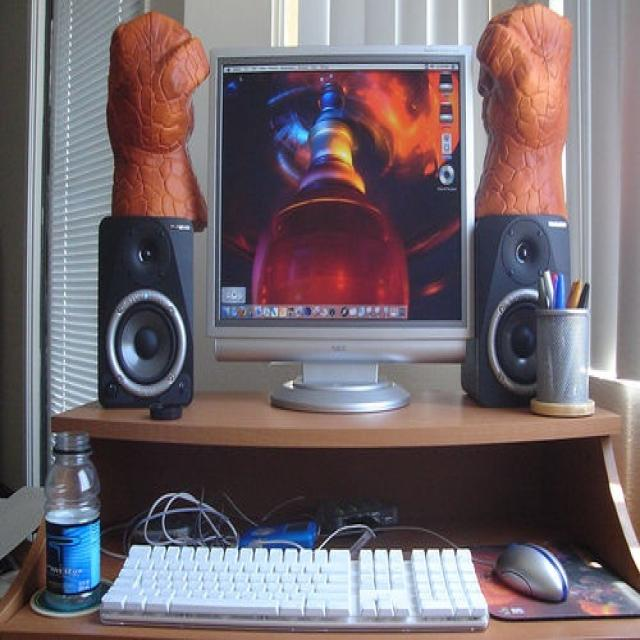bottle: (46, 432, 101, 612)
tvmonitor: (205, 44, 475, 416)
